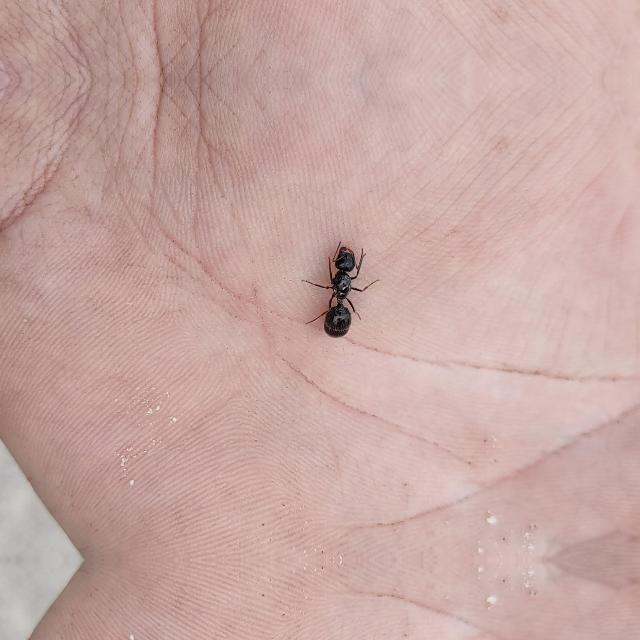Messor: (298, 226, 379, 348)
